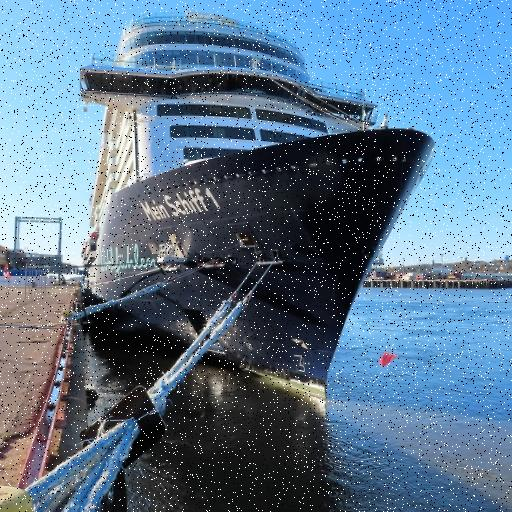cruises: (72, 3, 442, 410)
